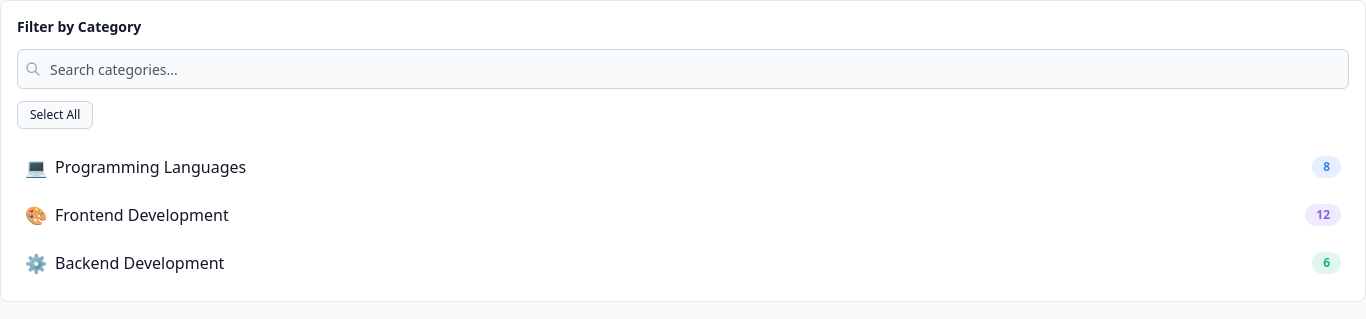
CategoryFilter › filters categories based on search input
Type "Frontend" into the field with placeholder "Search categories...".
click(683, 69); type("Frontend")  # box 17,49 -> 1349,89
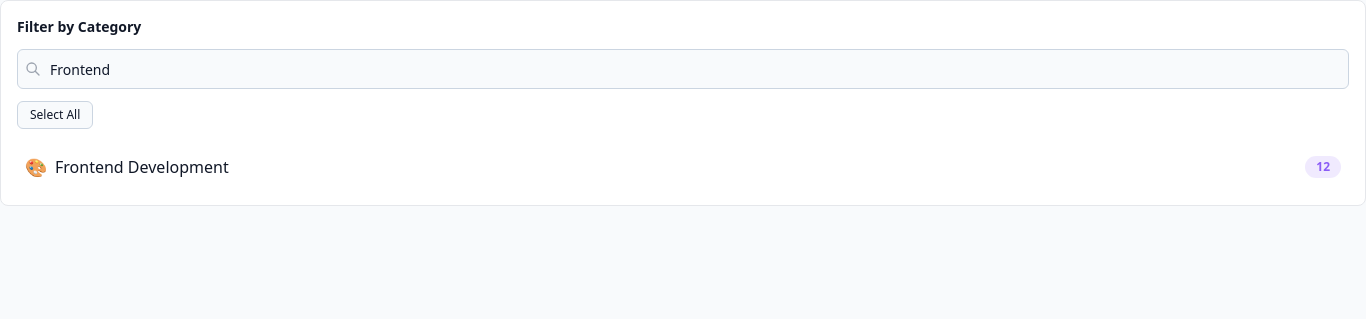
Expected: the text "Frontend Development" is shown, 55,155 -> 229,179
Now the button "Programming Languages" is gone
Now the button "Backend Development" is gone
